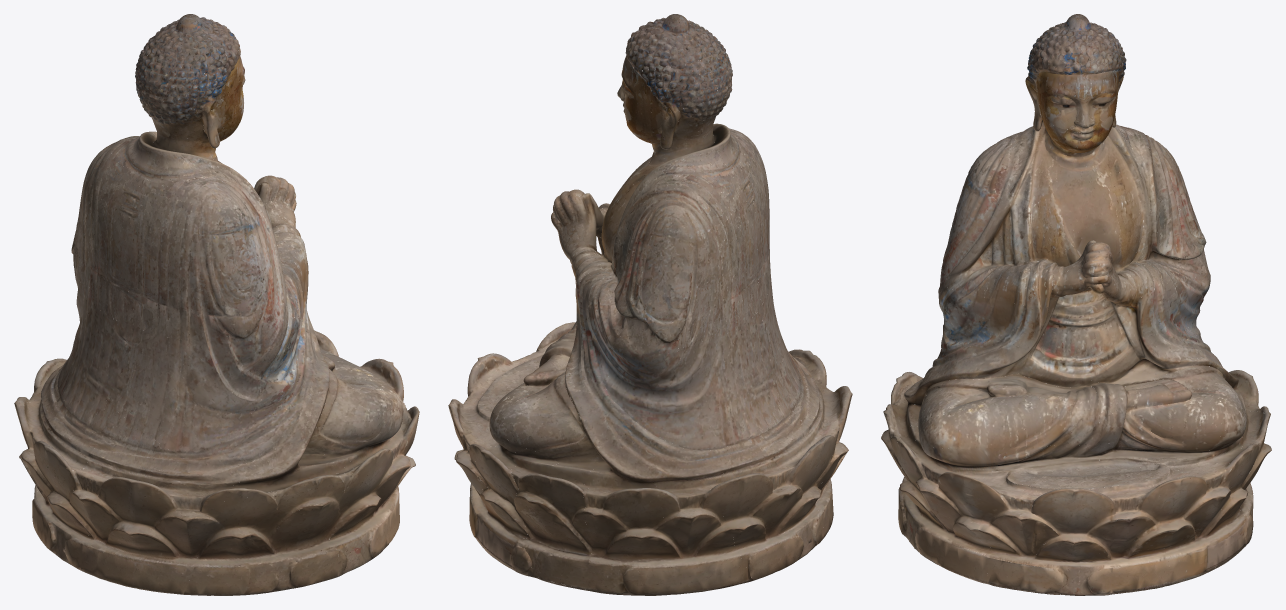
The model's file is f5-vairocana.glb.
The picture shows the model from 3 angles, left to right: view 1: azimuth 30°, elevation 25°; view 2: azimuth 150°, elevation 25°; view 3: azimuth 270°, elevation 25°; orthographic projection. The views are drawn at different scales.
Visible parts, largest first — view 1: tripo_node_8d3b913a-aa40-4d13-b14b-f2520c84eda5; view 2: tripo_node_8d3b913a-aa40-4d13-b14b-f2520c84eda5; view 3: tripo_node_8d3b913a-aa40-4d13-b14b-f2520c84eda5.
Boxes of the visible parts, x1,y1,x2,y2 form: tripo_node_8d3b913a-aa40-4d13-b14b-f2520c84eda5: [14, 14, 419, 595]; tripo_node_8d3b913a-aa40-4d13-b14b-f2520c84eda5: [448, 14, 852, 595]; tripo_node_8d3b913a-aa40-4d13-b14b-f2520c84eda5: [881, 14, 1271, 595].
Bounding box in the file's own units: 0.7092 × 1 × 0.7137.
1 material, 1 textured.
